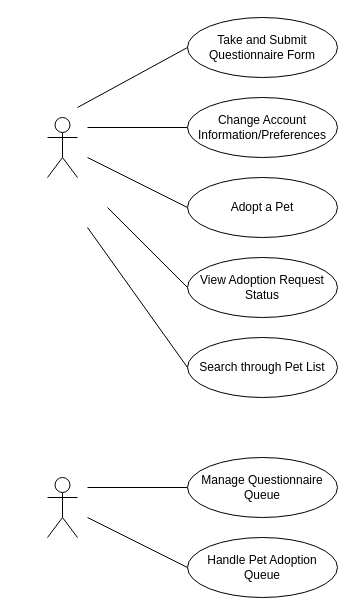
Image size: 355x615. Some labels were removed from this diagram. The shapes that lost their labels are listed below. From the top down, each one's centre as x and y in pixels, then its label:
At point 62,147: "Customer (Actor)".
At point 62,507: "Admin".
